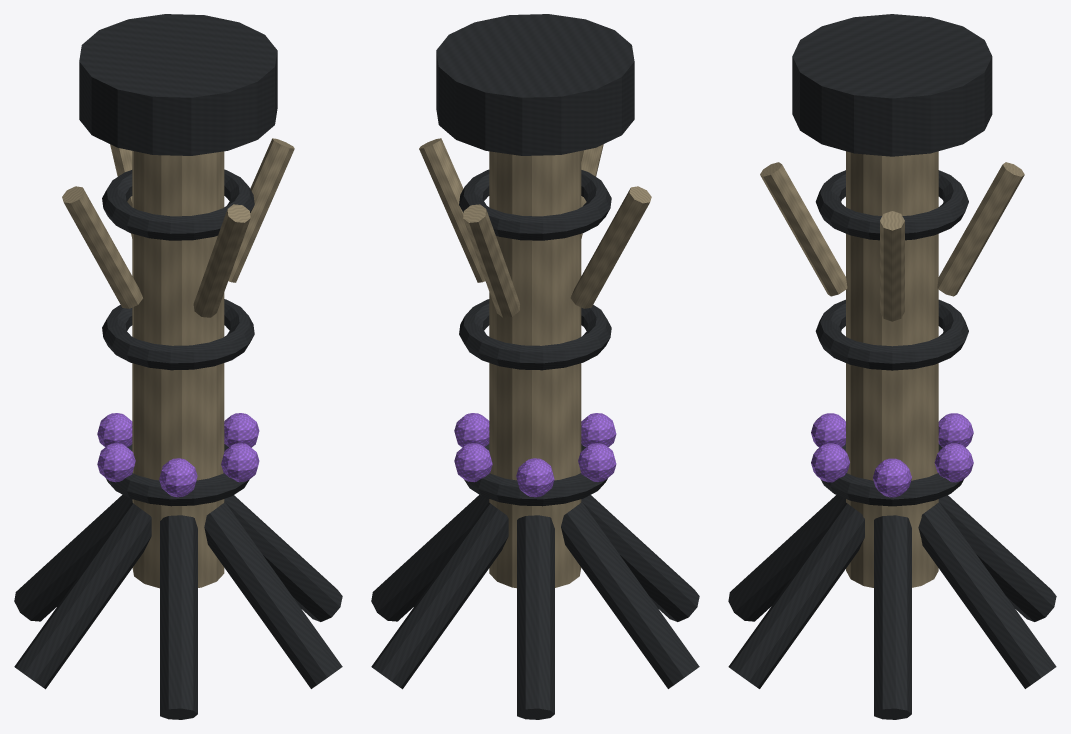
Rendered from underworld-tool-anchor-spike.glb.
3 views of the same model, side by side, from view 1: azimuth 30°, elevation 25°; view 2: azimuth 150°, elevation 25°; view 3: azimuth 270°, elevation 25° (orthographic).
Visible parts, largest first — view 1: titanbone-core, driving-cap, ground-fin-3, ground-fin-5, ground-fin-4, anchor-collar-0.02, anchor-collar-0.42, ground-fin-2, ground-fin-0, locking-brace-2, locking-brace-3, anchor-collar--0.4 (+7 smaller); view 2: titanbone-core, driving-cap, ground-fin-1, ground-fin-3, ground-fin-2, anchor-collar-0.02, anchor-collar-0.42, ground-fin-0, ground-fin-4, locking-brace-2, locking-brace-1, anchor-collar--0.4 (+7 smaller); view 3: titanbone-core, driving-cap, ground-fin-1, ground-fin-5, ground-fin-0, anchor-collar-0.02, anchor-collar-0.42, ground-fin-4, ground-fin-2, locking-brace-1, locking-brace-3, locking-brace-0 (+6 smaller).
Part boxes in pixels (x1,y1,x2,y2): titanbone-core: [132, 151, 224, 588]; driving-cap: [79, 14, 277, 155]; ground-fin-3: [14, 502, 151, 689]; ground-fin-5: [204, 502, 342, 688]; ground-fin-4: [160, 515, 197, 719]; anchor-collar-0.02: [102, 299, 254, 370]; anchor-collar-0.42: [102, 169, 254, 240]; ground-fin-2: [14, 494, 132, 621]; ground-fin-0: [224, 495, 342, 621]; locking-brace-2: [62, 186, 142, 308]; locking-brace-3: [193, 204, 250, 317]; anchor-collar--0.4: [106, 444, 249, 506]; titanbone-core: [489, 151, 581, 588]; driving-cap: [436, 14, 634, 155]; ground-fin-1: [371, 502, 508, 689]; ground-fin-3: [561, 502, 699, 688]; ground-fin-2: [517, 515, 554, 719]; anchor-collar-0.02: [459, 299, 611, 370]; anchor-collar-0.42: [459, 169, 611, 240]; ground-fin-0: [371, 495, 489, 621]; ground-fin-4: [581, 495, 699, 621]; locking-brace-2: [570, 186, 651, 308]; locking-brace-1: [463, 204, 519, 317]; anchor-collar--0.4: [464, 444, 607, 506]; titanbone-core: [846, 151, 938, 587]; driving-cap: [792, 14, 992, 156]; ground-fin-1: [918, 502, 1056, 688]; ground-fin-5: [728, 502, 864, 688]; ground-fin-0: [874, 515, 911, 719]; anchor-collar-0.02: [815, 299, 968, 370]; anchor-collar-0.42: [815, 170, 968, 240]; ground-fin-4: [728, 495, 845, 621]; ground-fin-2: [938, 495, 1056, 621]; locking-brace-1: [937, 162, 1024, 296]; locking-brace-3: [760, 162, 847, 296]; locking-brace-0: [880, 211, 904, 321].
Size of the model in its own units: 1.04 by 1.85 by 0.9195.
Materials: 3 (3 with a texture image).
